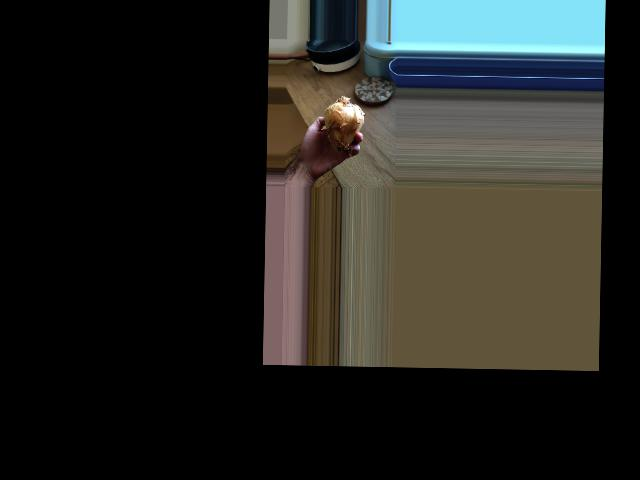onion: (323, 98, 366, 154)
